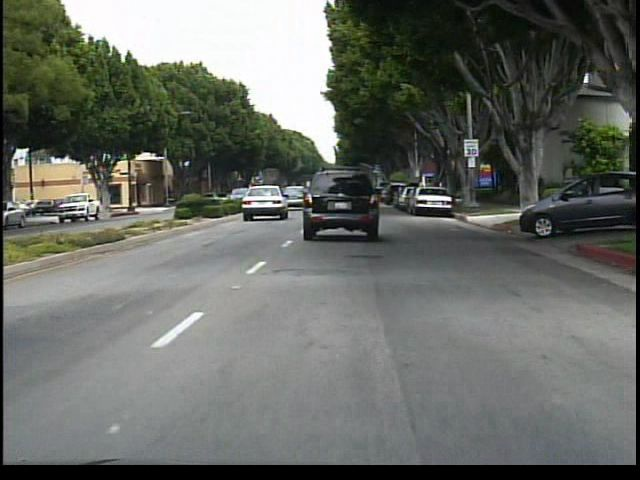person: (511, 169, 532, 213)
